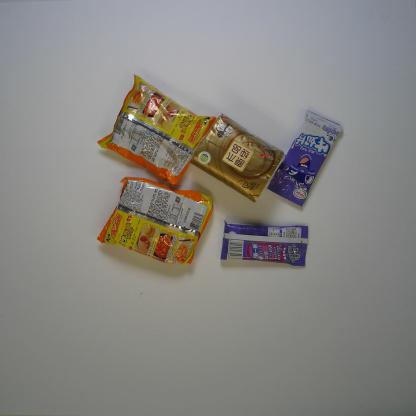Candy: (267, 108, 344, 208), (219, 219, 309, 268)
Instant Noodles: (96, 73, 218, 187), (94, 175, 216, 267)
Tissue: (190, 112, 284, 204)
